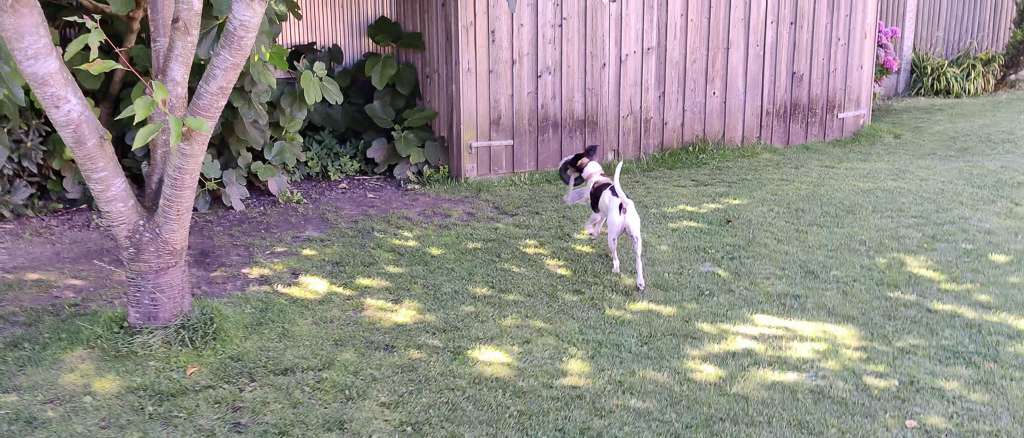Dog: (549, 139, 664, 295)
